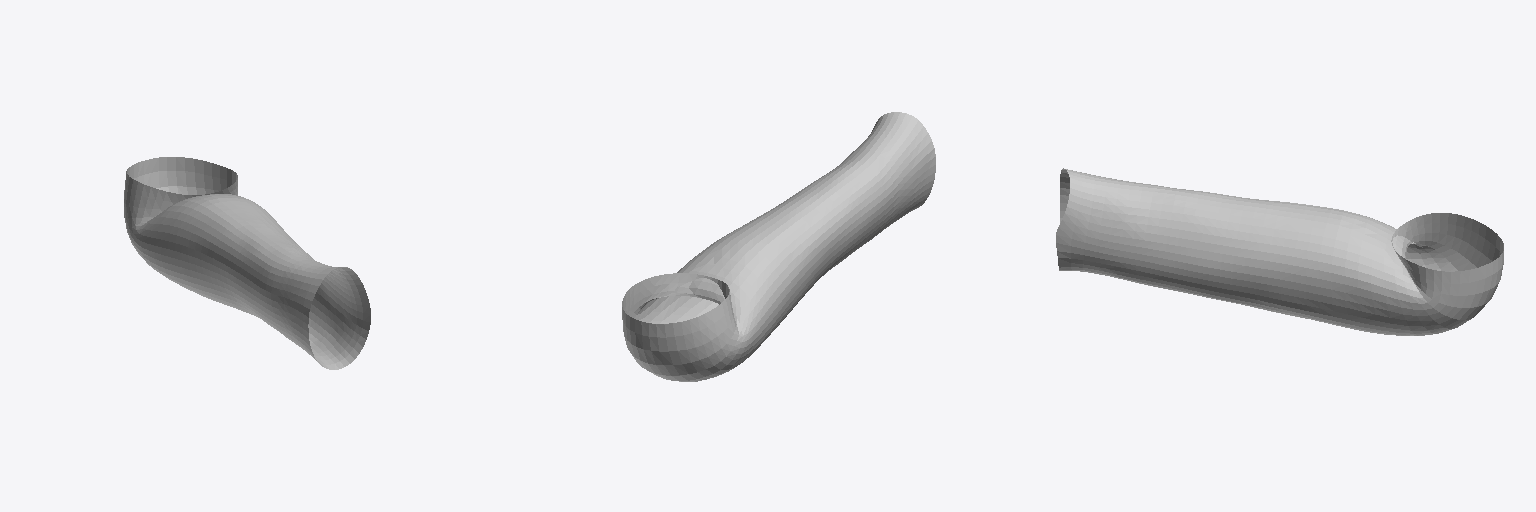
Rendered from arm_skin.obj.
The picture shows the model from 3 angles: view 1: azimuth 30°, elevation 25°; view 2: azimuth 150°, elevation 25°; view 3: azimuth 270°, elevation 25°; orthographic projection.
Parts seen in each view (by area): view 1: arm; view 2: arm; view 3: arm.
Part boxes in pixels (bbox=[...]): arm: bbox=[124, 157, 370, 369]; arm: bbox=[622, 112, 935, 381]; arm: bbox=[1056, 168, 1503, 335].
Size of the model in its own units: 0.9963 by 1.19 by 3.35.